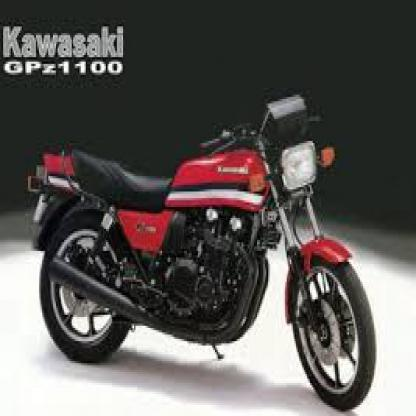Motorcycle: (20, 87, 376, 416)
